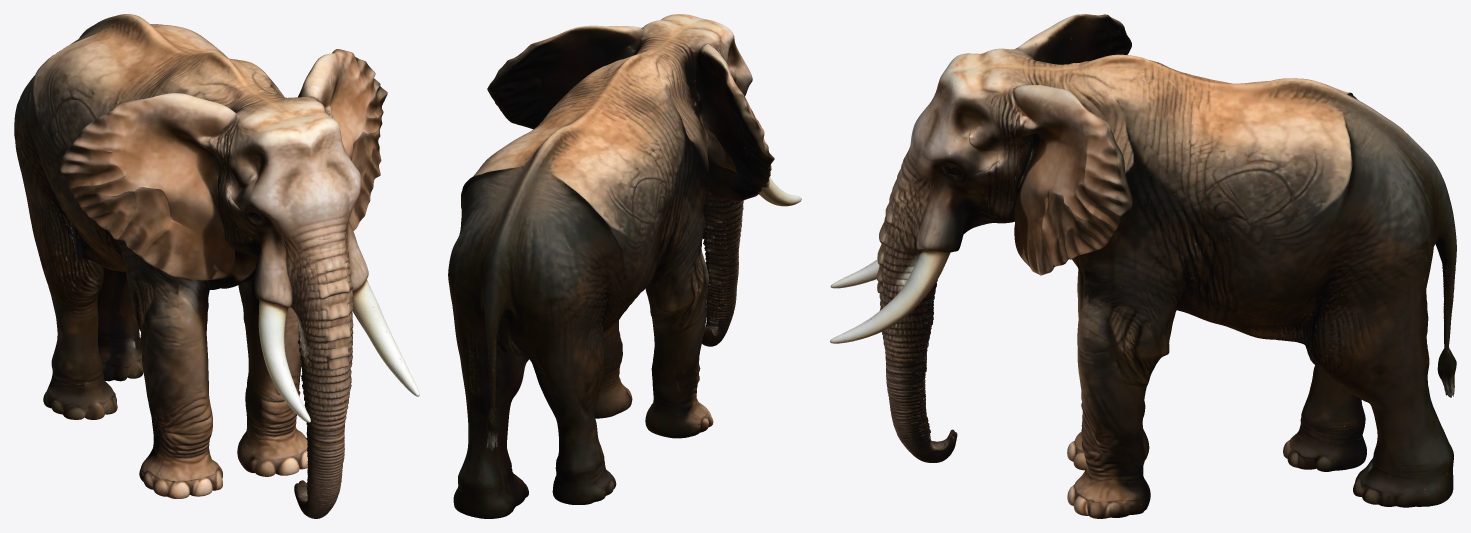
Rendered from Elephant.fbx.
3 renders of one model, left to right at view 1: azimuth 30°, elevation 25°; view 2: azimuth 150°, elevation 25°; view 3: azimuth 270°, elevation 25°, orthographic. The views are drawn at different scales.
Parts seen in each view (by area): view 1: world; view 2: world; view 3: world.
Part boxes in pixels (x1=…): world: x1=14, y1=14, x2=419, y2=518; world: x1=448, y1=14, x2=801, y2=518; world: x1=830, y1=14, x2=1456, y2=518.
Bounding box in the file's own units: 125 × 150 × 200.
Materials: 1 (1 with a texture image).
